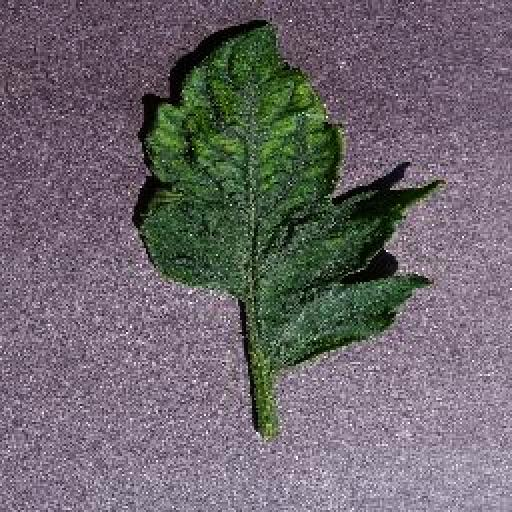disease_tomato: (134, 24, 448, 366)
